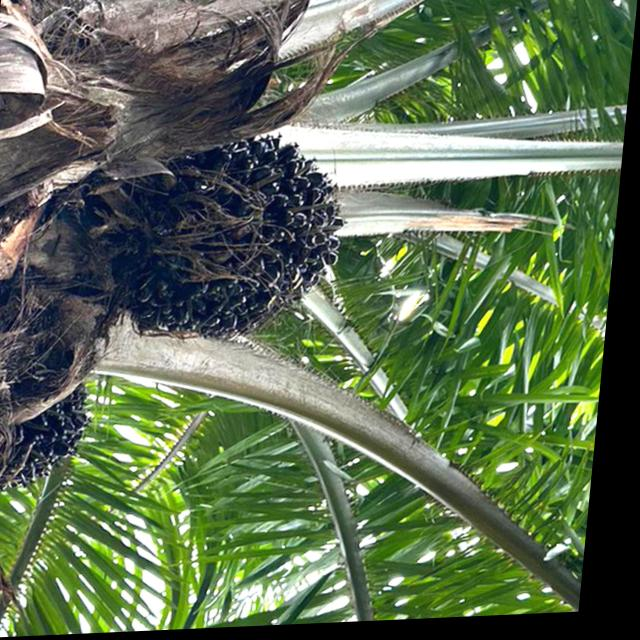unripe: (84, 120, 367, 360), (0, 372, 109, 501)
